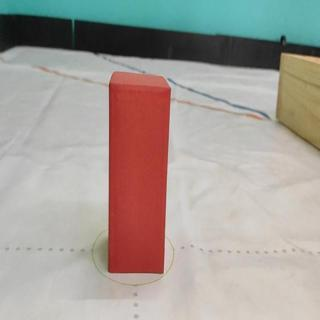redbox: (109, 69, 172, 274)
